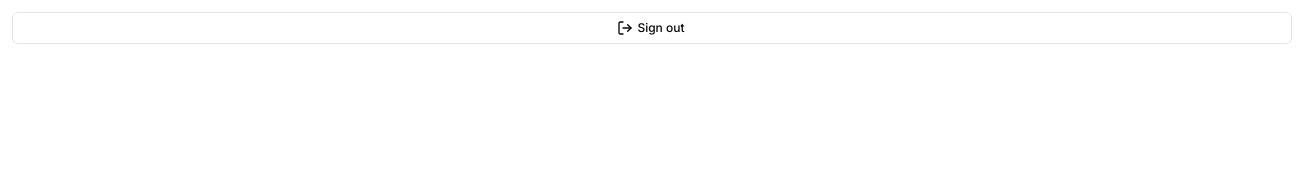
Test: SignOutButton › stays on the page and shows the error when sign-out fails
Click the button "Sign out": click(652, 28) [12, 12, 1292, 44]
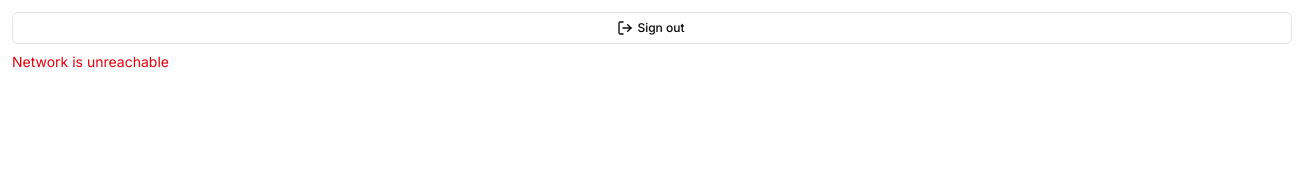
Result: the text "Network is unreachable" is shown at [12, 53, 169, 70]
